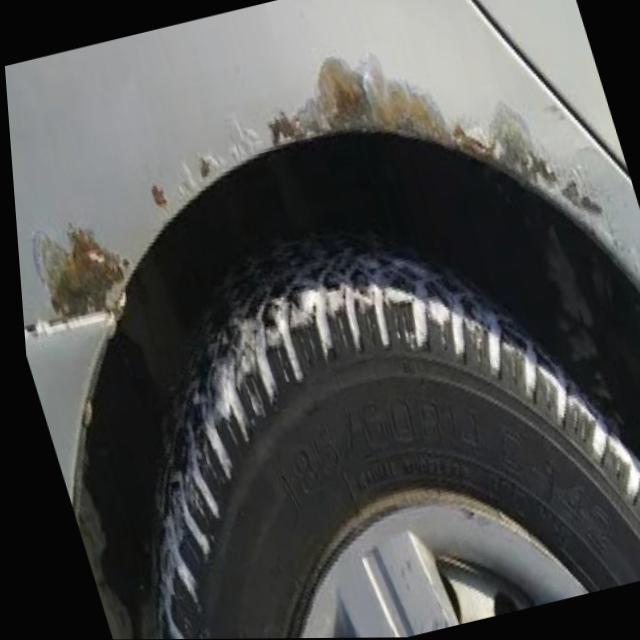Rust: (156, 53, 612, 233), (31, 220, 139, 321), (144, 180, 168, 207), (194, 157, 215, 180)
